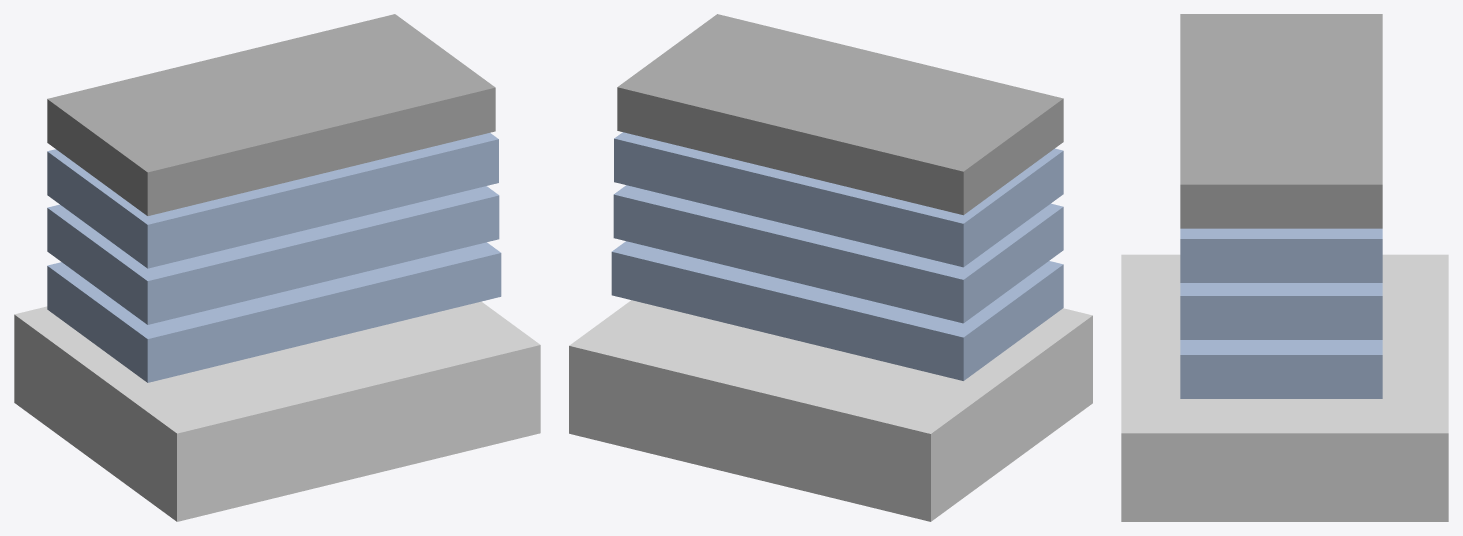
Rendered from stack_nanosheets.glb.
3 renders of one model, left to right at view 1: azimuth 30°, elevation 25°; view 2: azimuth 150°, elevation 25°; view 3: azimuth 270°, elevation 25°, orthographic.
Parts seen in each view (by area): view 1: Cube, Cube.003, Cube.001, Cube.002, Cube.004; view 2: Cube, Cube.003, Cube.001, Cube.002, Cube.004; view 3: Cube, Cube.003, Cube.001, Cube.002, Cube.004.
Boxes of the visible parts, x1,y1,x2,y2 form: Cube: [14, 301, 540, 521]; Cube.003: [47, 14, 495, 215]; Cube.001: [47, 242, 501, 382]; Cube.002: [47, 186, 499, 324]; Cube.004: [47, 133, 498, 268]; Cube: [569, 300, 1092, 521]; Cube.003: [617, 14, 1063, 215]; Cube.001: [611, 241, 1063, 380]; Cube.002: [613, 185, 1063, 323]; Cube.004: [614, 132, 1063, 267]; Cube: [1121, 254, 1448, 521]; Cube.003: [1180, 14, 1382, 228]; Cube.001: [1180, 340, 1382, 398]; Cube.002: [1180, 283, 1382, 339]; Cube.004: [1180, 228, 1382, 282].
Size of the model in its own units: 5.36 by 4.62 by 4.16.
